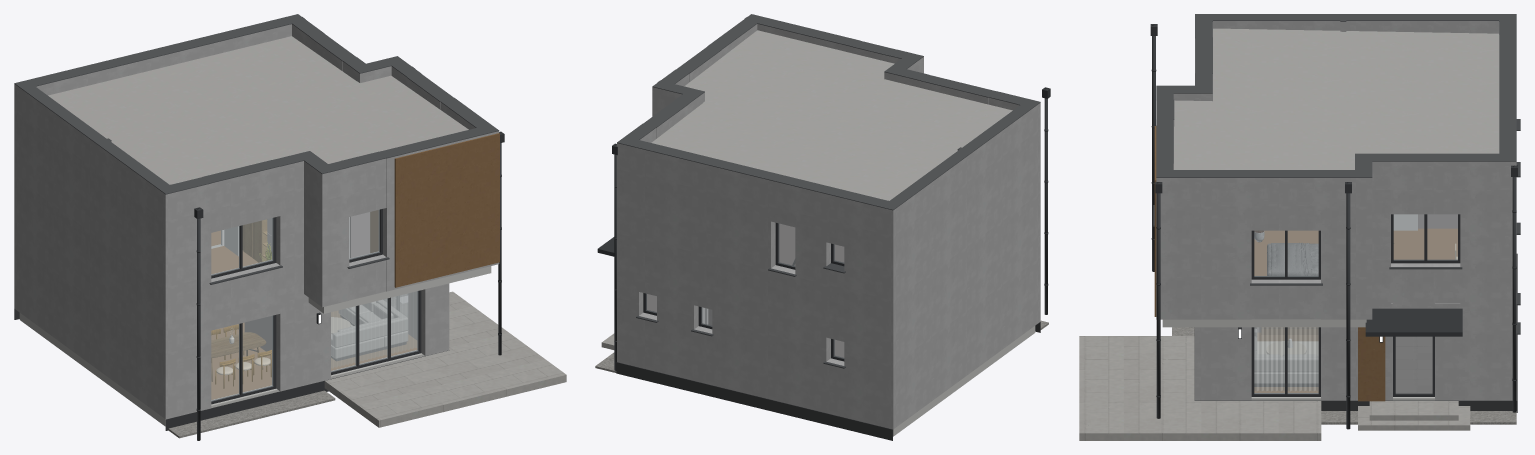
Rendered from house_stano_v2x.glb.
3 views of the same model, side by side, from view 1: azimuth 30°, elevation 25°; view 2: azimuth 150°, elevation 25°; view 3: azimuth 270°, elevation 25° (orthographic). The views are drawn at different scales.
Parts seen in each view (by area): view 1: Shell, accent_clad_S, D1_S_1.09_HS_glass, curtain_sheer_S, D1_S_1.08_glass, W2_S_2.02_glass, W2_S_2.03_glass, D1_S_1.09_HS_frame, Nordic Harmony Wardrobe, sect_back_s, D1_S_1.08_frame, downpipe2 (+4 smaller); view 2: Shell, downpipe2, W2_N_2.06_stair_glass, downpipe0; view 3: Shell, D1_E_terrace_1.09_glass, curtain_sheer_E, W2_E_2.04_glass, W2_E_2.05_glass, canopy, accent_clad_E, downpipe3, downpipe0, downpipe1, sect_back_e, D1_E_terrace_1.09_frame (+8 smaller).
Part boxes in pixels (<box>): Shell: <box>14,14,566,438</box>; accent_clad_S: <box>394,133,499,287</box>; D1_S_1.09_HS_glass: <box>331,291,418,371</box>; curtain_sheer_S: <box>331,291,416,367</box>; D1_S_1.08_glass: <box>211,316,273,401</box>; W2_S_2.02_glass: <box>211,218,273,275</box>; W2_S_2.03_glass: <box>349,210,379,259</box>; D1_S_1.09_HS_frame: <box>331,290,421,375</box>; Nordic Harmony Wardrobe: <box>242,218,271,262</box>; sect_back_s: <box>333,317,403,347</box>; D1_S_1.08_frame: <box>211,315,276,404</box>; downpipe2: <box>197,208,200,440</box>; Shell: <box>595,14,1048,440</box>; downpipe2: <box>1044,88,1047,314</box>; W2_N_2.06_stair_glass: <box>778,223,794,266</box>; downpipe0: <box>614,144,616,370</box>; Shell: <box>1079,14,1517,440</box>; D1_E_terrace_1.09_glass: <box>1254,327,1318,393</box>; curtain_sheer_E: <box>1254,327,1318,390</box>; W2_E_2.04_glass: <box>1254,231,1318,276</box>; W2_E_2.05_glass: <box>1394,214,1457,259</box>; canopy: <box>1365,308,1462,336</box>; accent_clad_E: <box>1358,327,1385,401</box>; downpipe3: <box>1346,182,1350,429</box>; downpipe0: <box>1512,165,1516,412</box>; downpipe1: <box>1156,182,1160,418</box>; sect_back_e: <box>1254,356,1318,371</box>; D1_E_terrace_1.09_frame: <box>1251,327,1320,396</box>.
Size of what is drawn, in the model's own units: 10.98 by 7.18 by 11.4.
105 materials, 51 textured.
